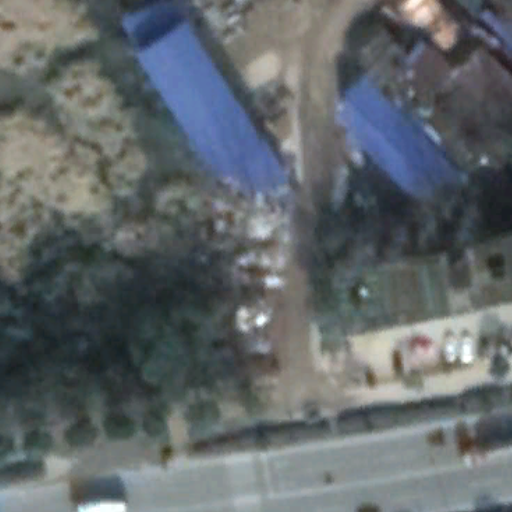msw: (218, 184, 287, 355)
